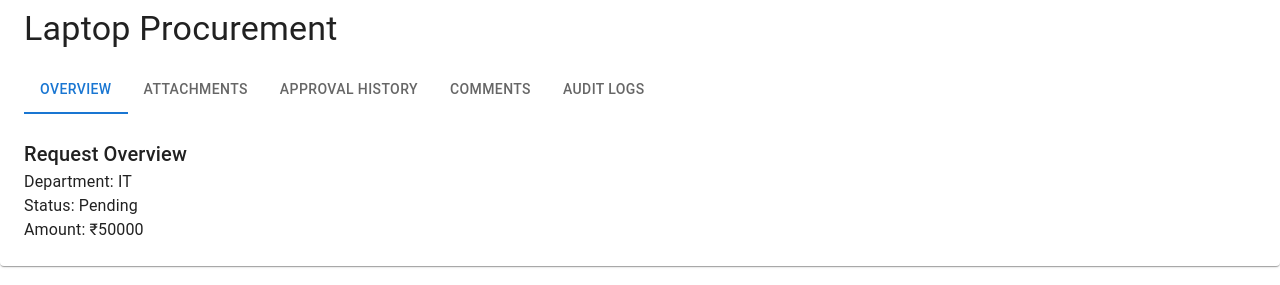
it: ProcurementDetailsPage › opens attachments tab
This screenshot has width=1280, height=285.
Click the tab "Attachments" at {"x": 196, "y": 90}, box [128,66,264,114]
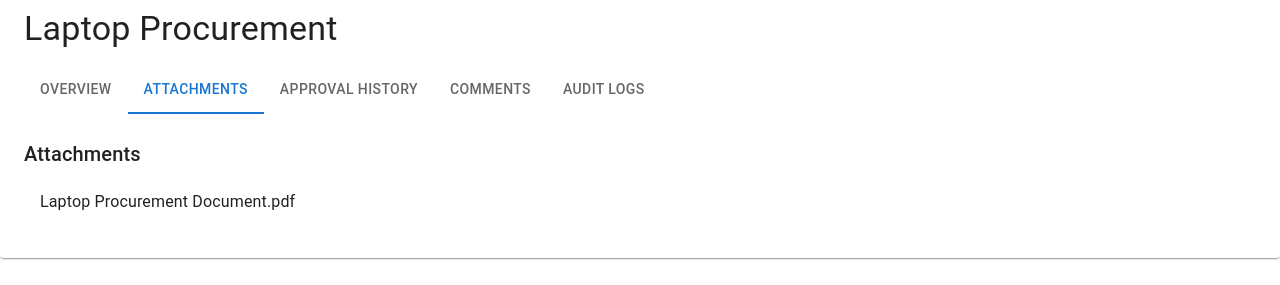
Expected: the text "Laptop Procurement Document.pdf" is shown, [40,192,295,211]
